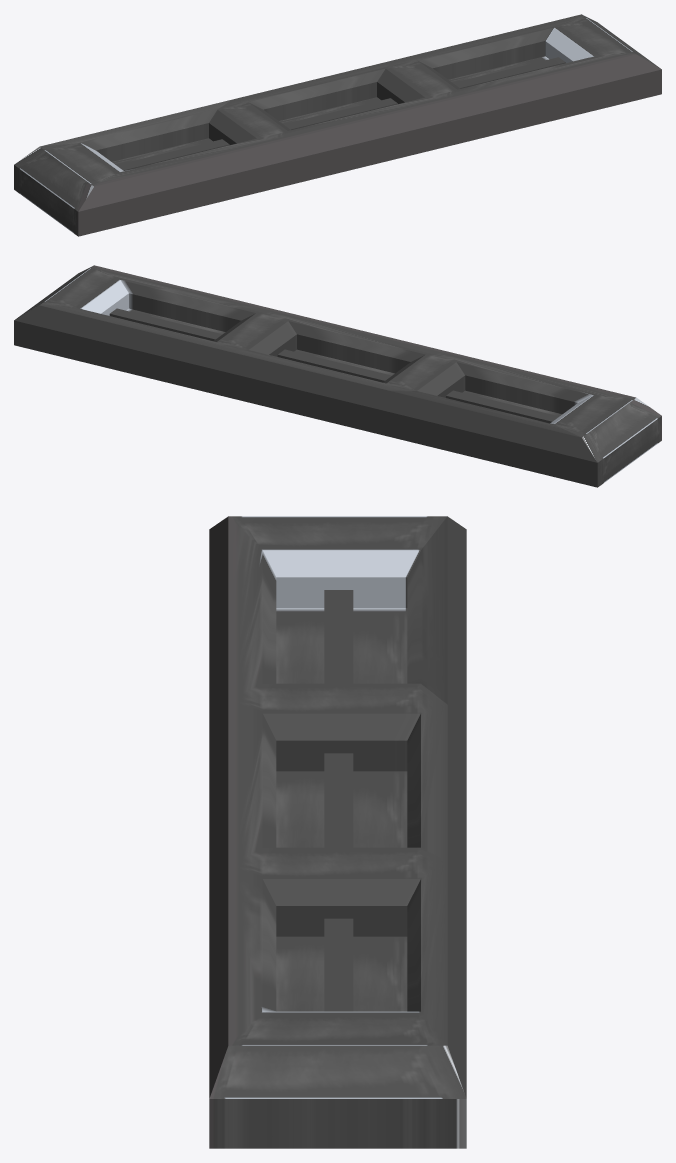
File: Light.fbx
3 renders of one model, top to bottom at view 1: azimuth 30°, elevation 25°; view 2: azimuth 150°, elevation 25°; view 3: azimuth 270°, elevation 25°, orthographic. The views are drawn at different scales.
Visible parts, largest first — view 1: Light; view 2: Light; view 3: Light.
Boxes of the visible parts, x1,y1,x2,y2 form: Light: [14, 14, 661, 236]; Light: [14, 265, 661, 487]; Light: [209, 516, 466, 1148].
Size of the model in its own units: 690 by 46.86 by 132.
